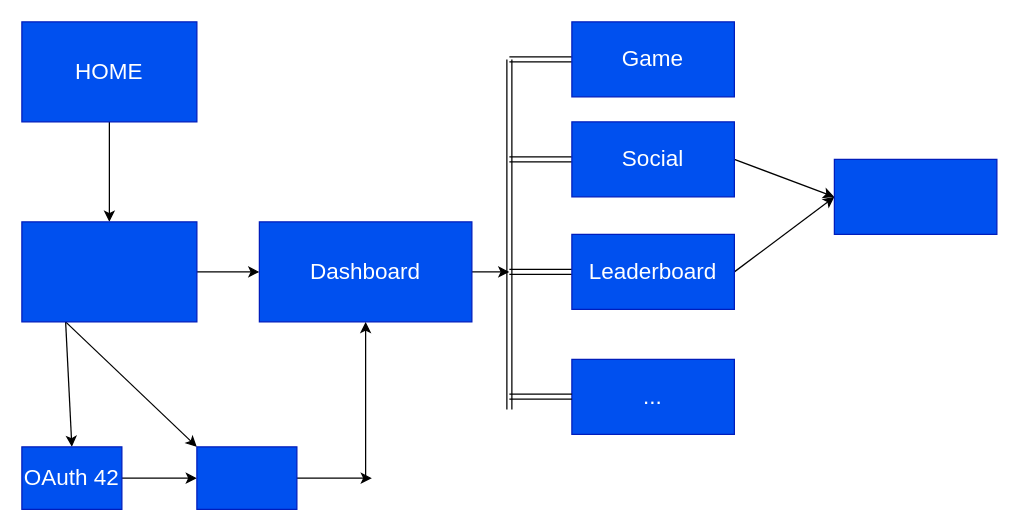
Image size: 1019x531. Some labels were removed from this diagram. The centre of each missing label's shape, as x and y in pixels:
2FA login: point (246, 477)
Login | Register: point (109, 271)
user/profile: point (915, 196)
